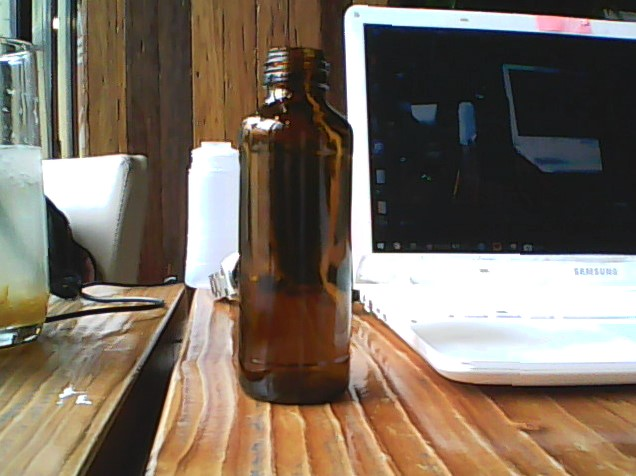Glass: (236, 44, 353, 407)
